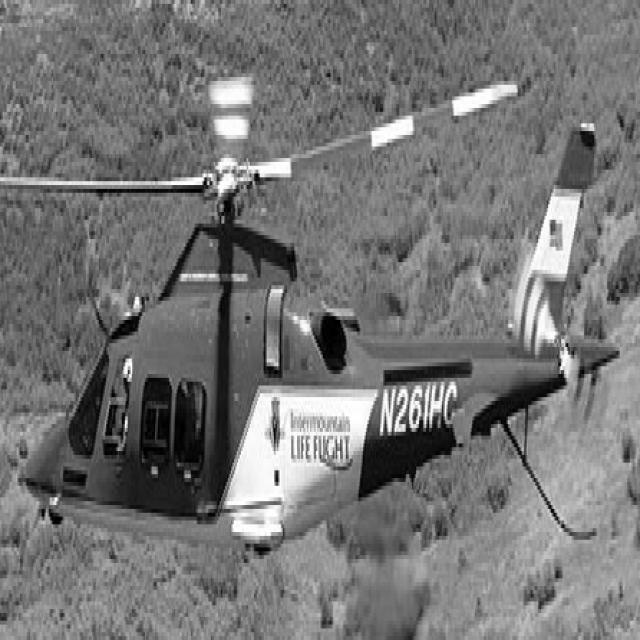helicopter: (1, 67, 631, 541)
